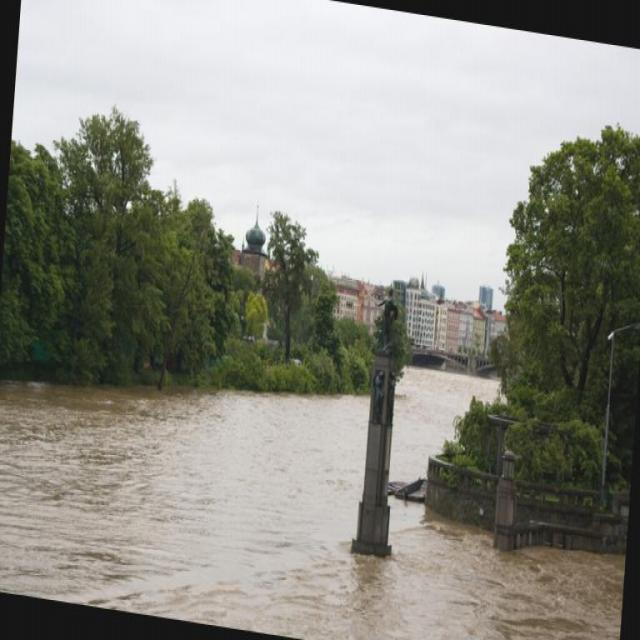flood: (0, 298, 637, 639)
